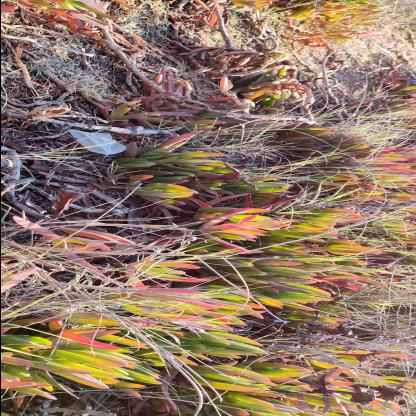plastik: (67, 129, 127, 155)
